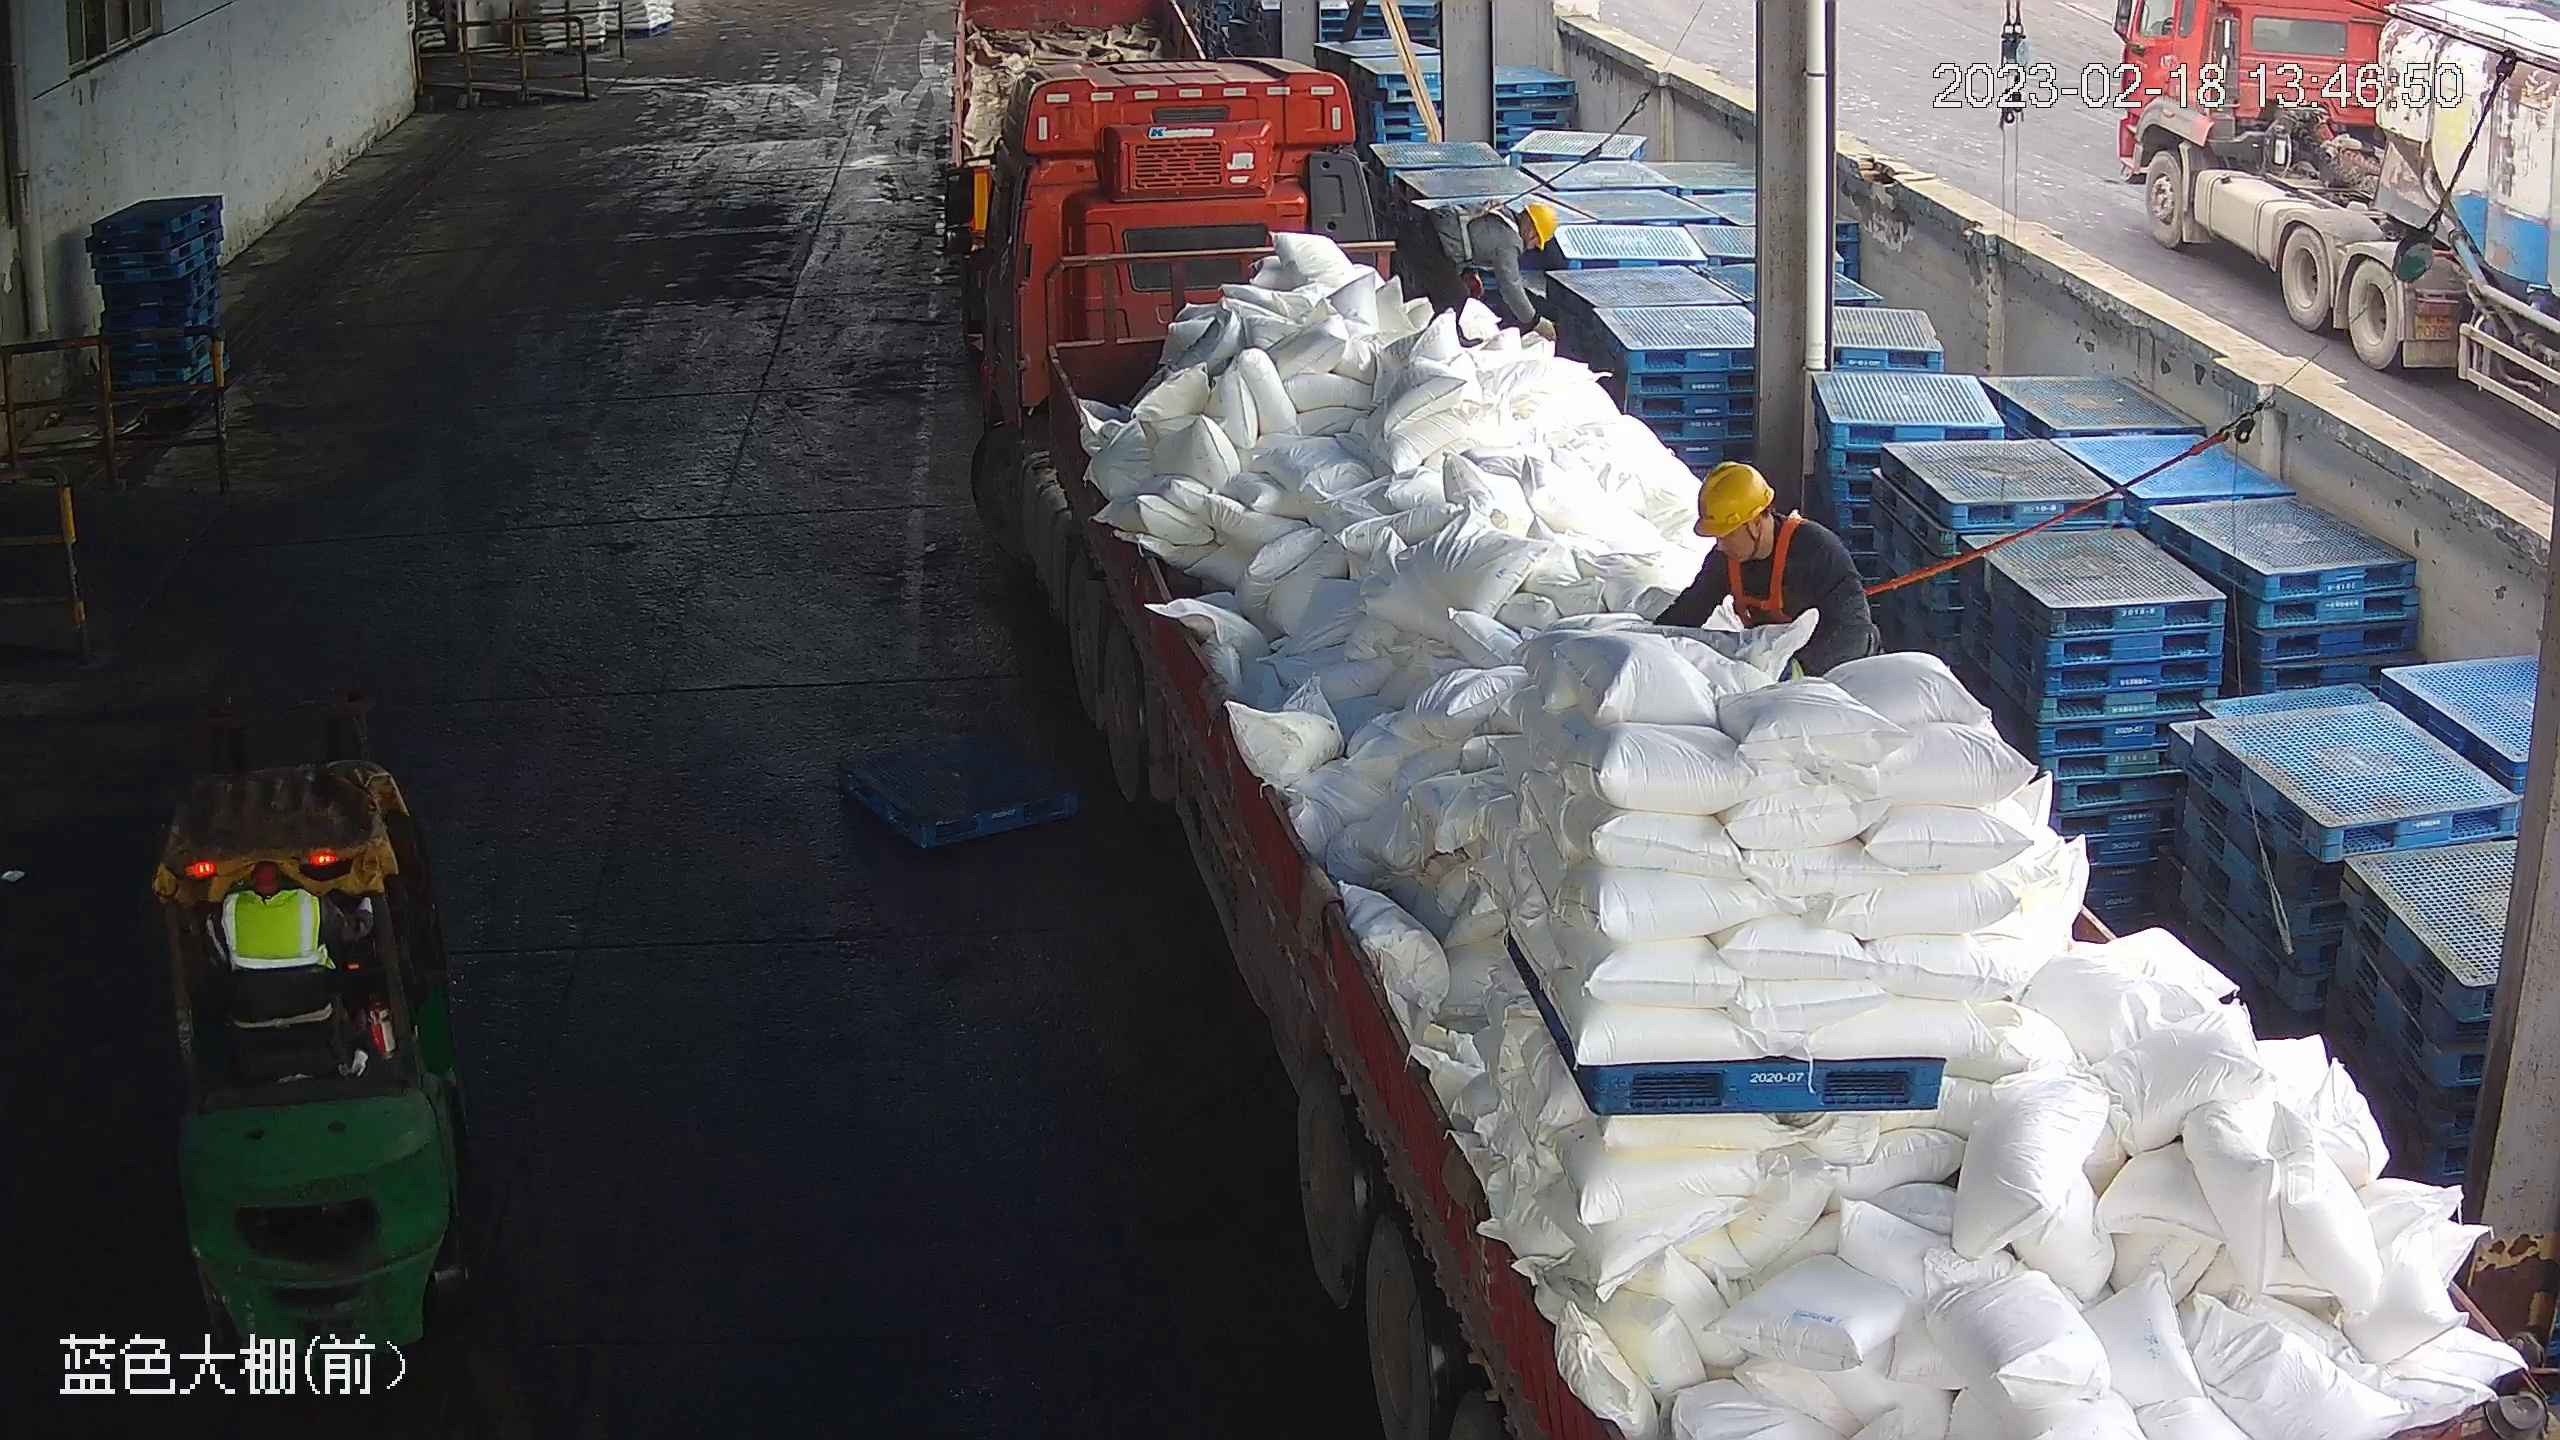belt: (1720, 510, 1811, 631), (1457, 194, 1514, 232)
head: (1686, 454, 1853, 592), (1477, 198, 1564, 264)
helmet: (1691, 458, 1774, 536), (1521, 199, 1560, 246)
people: (1394, 195, 1571, 349)
truck: (975, 49, 2552, 1438)
